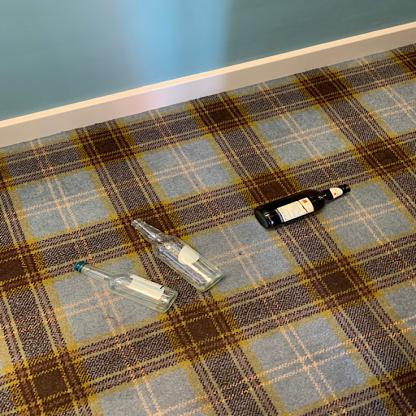trash: (129, 219, 224, 292), (70, 256, 180, 314), (254, 182, 353, 233)
